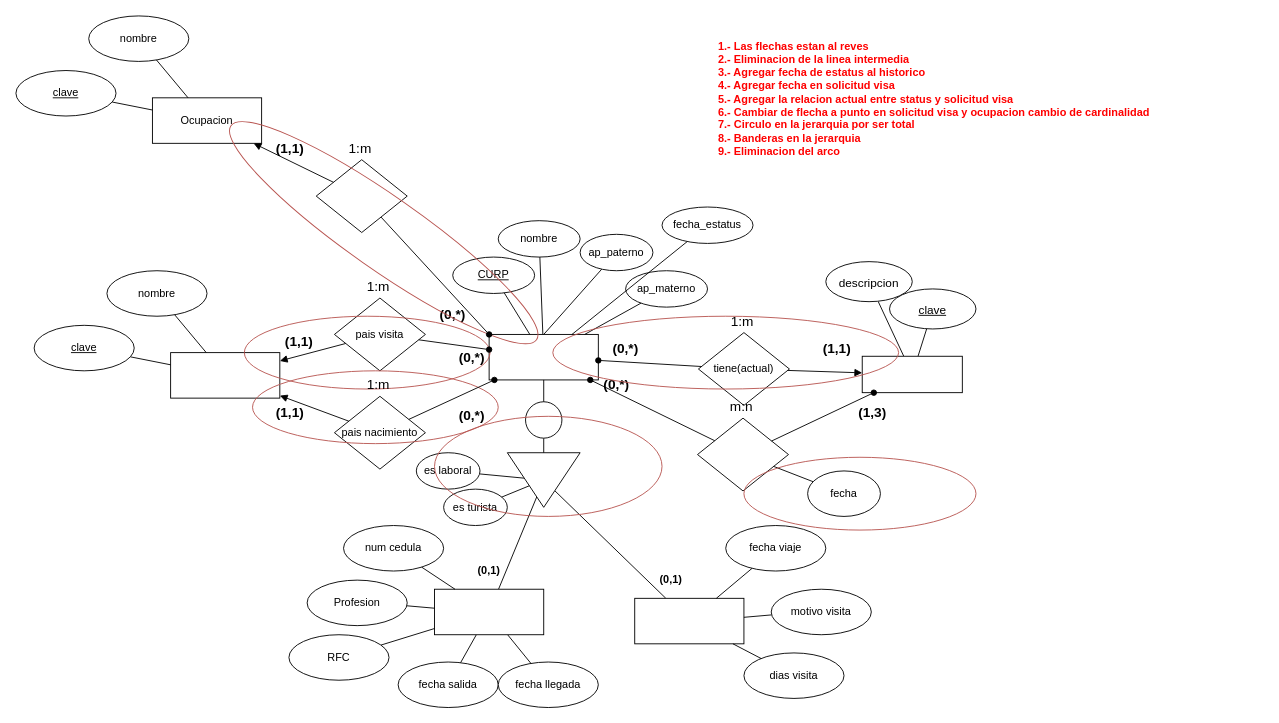
The diagram is 1279 pixels wide and 723 high, and some of its shapes have lost their labels. The box of each missing label's shape, as (x1, y1, x2, y2) in pixels:
es asignada: (315, 159, 407, 233)
Estatus: (861, 355, 962, 393)
Pais: (170, 352, 280, 398)
Solicitud laboral: (434, 588, 544, 635)
Solicitud turista: (634, 597, 744, 644)
Solicitud VISA: (488, 334, 598, 380)
tiene (historico): (697, 417, 789, 491)
